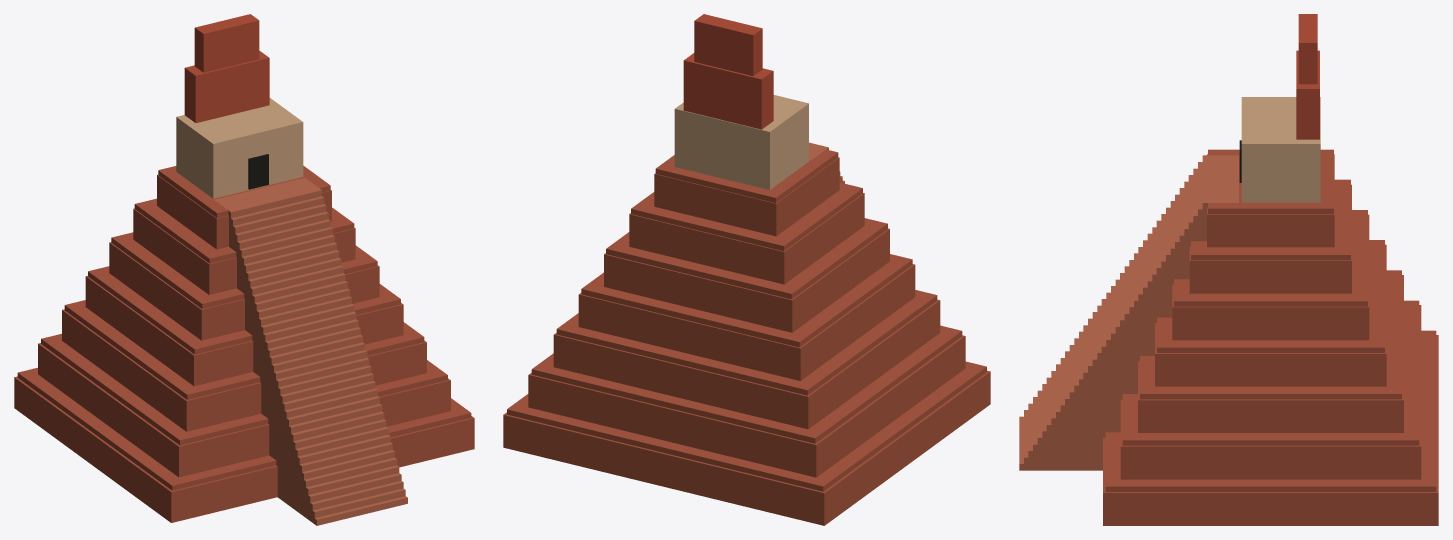
File: meso-tikal-t5.glb
3 views of the same model, side by side, from view 1: azimuth 30°, elevation 25°; view 2: azimuth 150°, elevation 25°; view 3: azimuth 270°, elevation 25° (orthographic). The views are drawn at different scales.
Parts seen in each view (by area): view 1: meso-body, meso-stair, meso-shrine, meso-comb, meso-door; view 2: meso-body, meso-shrine, meso-comb; view 3: meso-body, meso-stair, meso-shrine, meso-comb.
Boxes of the visible parts, x1=… form: meso-body: x1=14, y1=165, x2=474, y2=522; meso-stair: x1=214, y1=177, x2=407, y2=525; meso-shrine: x1=176, y1=98, x2=303, y2=198; meso-comb: x1=184, y1=14, x2=269, y2=122; meso-door: x1=248, y1=154, x2=268, y2=189; meso-body: x1=503, y1=149, x2=990, y2=525; meso-shrine: x1=674, y1=95, x2=808, y2=189; meso-comb: x1=683, y1=14, x2=773, y2=129; meso-body: x1=1103, y1=149, x2=1438, y2=525; meso-stair: x1=1019, y1=155, x2=1238, y2=470; meso-shrine: x1=1241, y1=97, x2=1320, y2=202; meso-comb: x1=1296, y1=14, x2=1319, y2=139.
Bounding box in the file's own units: 46.2 × 57 × 51.8.
